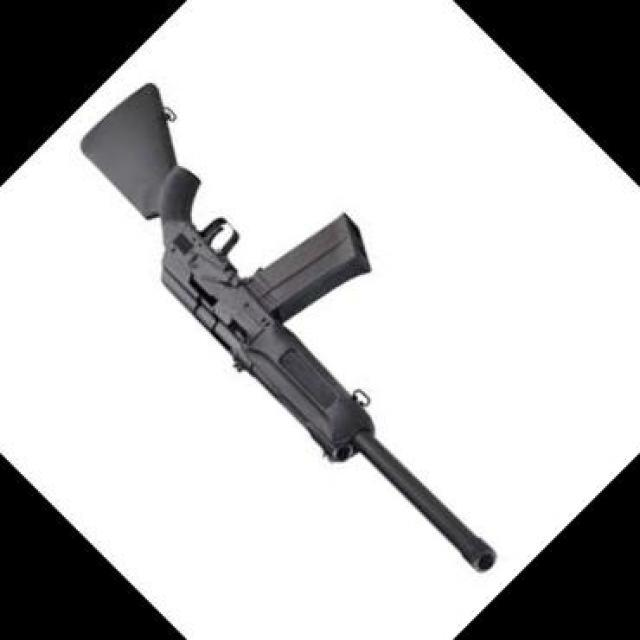weapon: (77, 82, 499, 576)
